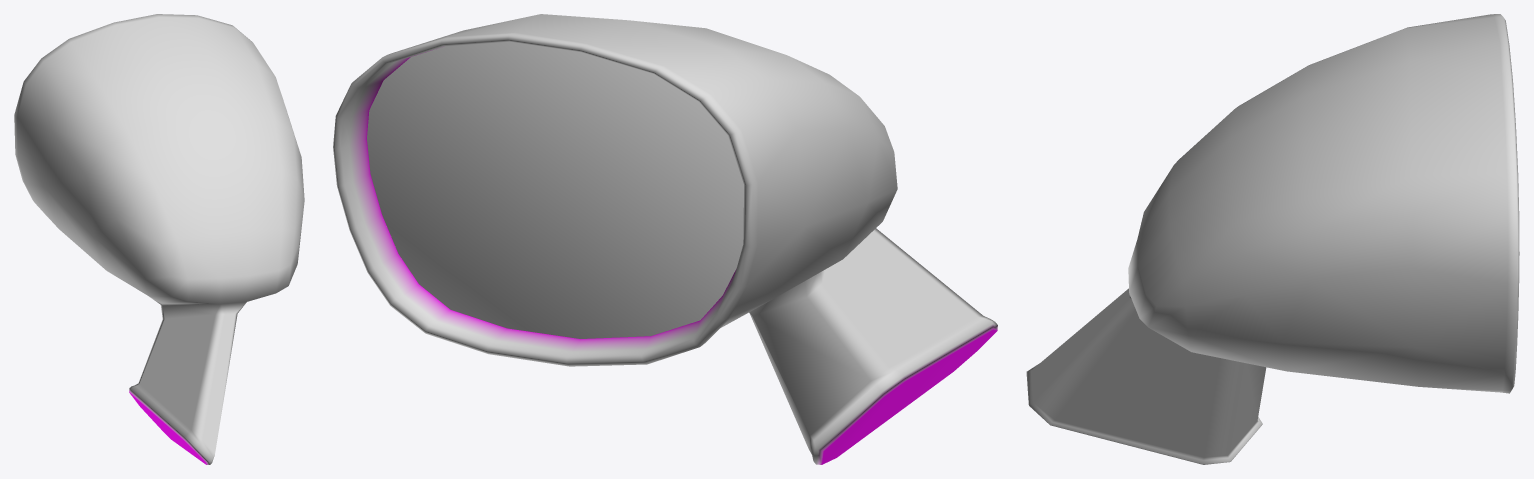
The model's file is Car_Mini_CountrymanJCW_2017_MirrorL_SetXS.fbx.
3 renders of one model, left to right at view 1: azimuth 30°, elevation 25°; view 2: azimuth 150°, elevation 25°; view 3: azimuth 270°, elevation 25°, orthographic. The views are drawn at different scales.
Visible parts, largest first — view 1: MirrorL 6; view 2: MirrorL 6; view 3: MirrorL 6.
Boxes of the visible parts, x1,y1,x2,y2 form: MirrorL 6: (14,14,304,464); MirrorL 6: (333,14,997,464); MirrorL 6: (1026,14,1519,464).
Size of the model in its own units: 0.156 by 0.1883 by 0.1849.
